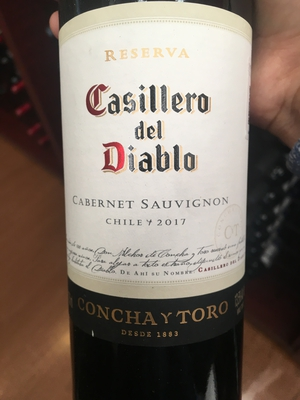casillero del diablo cabernet sauvignon: (51, 3, 266, 396)
